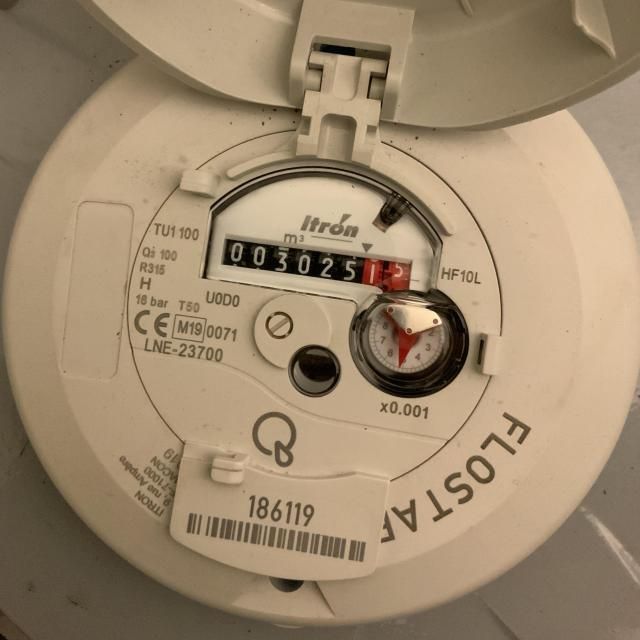gaz_meter: (127, 125, 505, 485)
indication: (222, 234, 409, 295)
